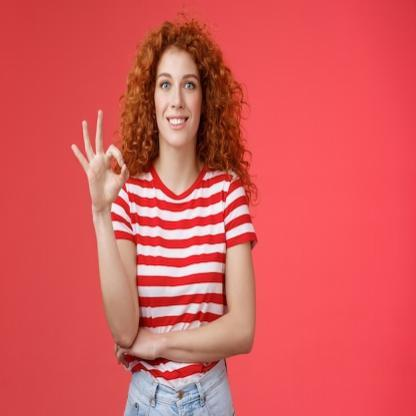ok: (68, 108, 130, 216)
